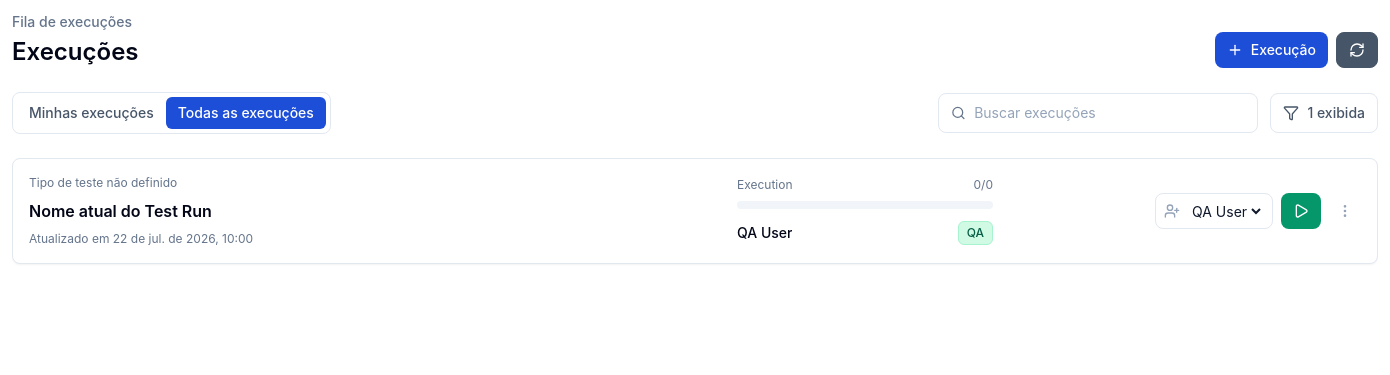
it: TestRunsPage name editing › shows edit name while preserving edit types and delete actions
Expected: the heading "Nome atual do Test Run" is shown, left=29, top=201, right=212, bottom=221
Click the button named "Ações da execução".
click(1345, 211)  # box left=1329, top=195, right=1361, bottom=227
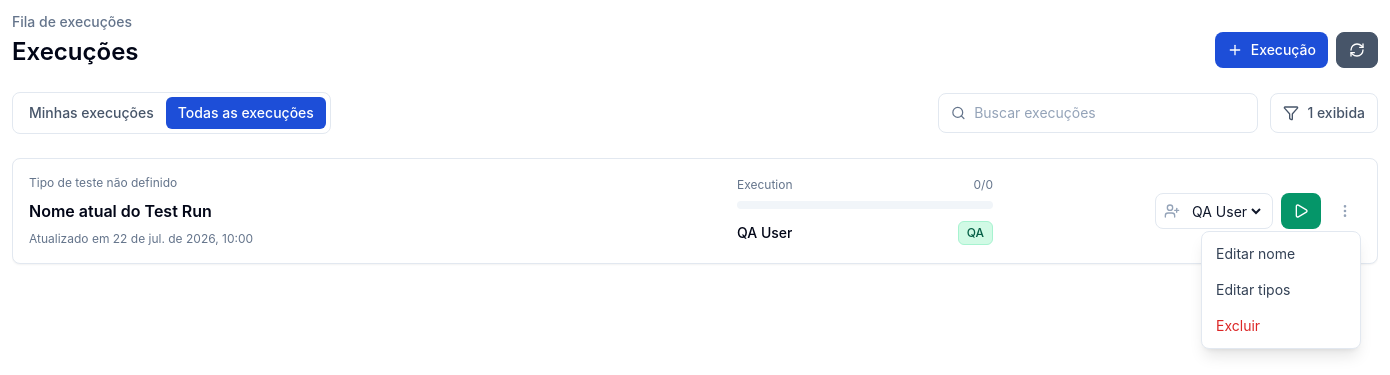
Now the menu item "Editar nome" is shown, box left=1206, top=236, right=1356, bottom=272
Now the menu item "Editar tipos" is shown, box left=1206, top=272, right=1356, bottom=308
Now the menu item "Excluir" is shown, box left=1206, top=308, right=1356, bottom=344
